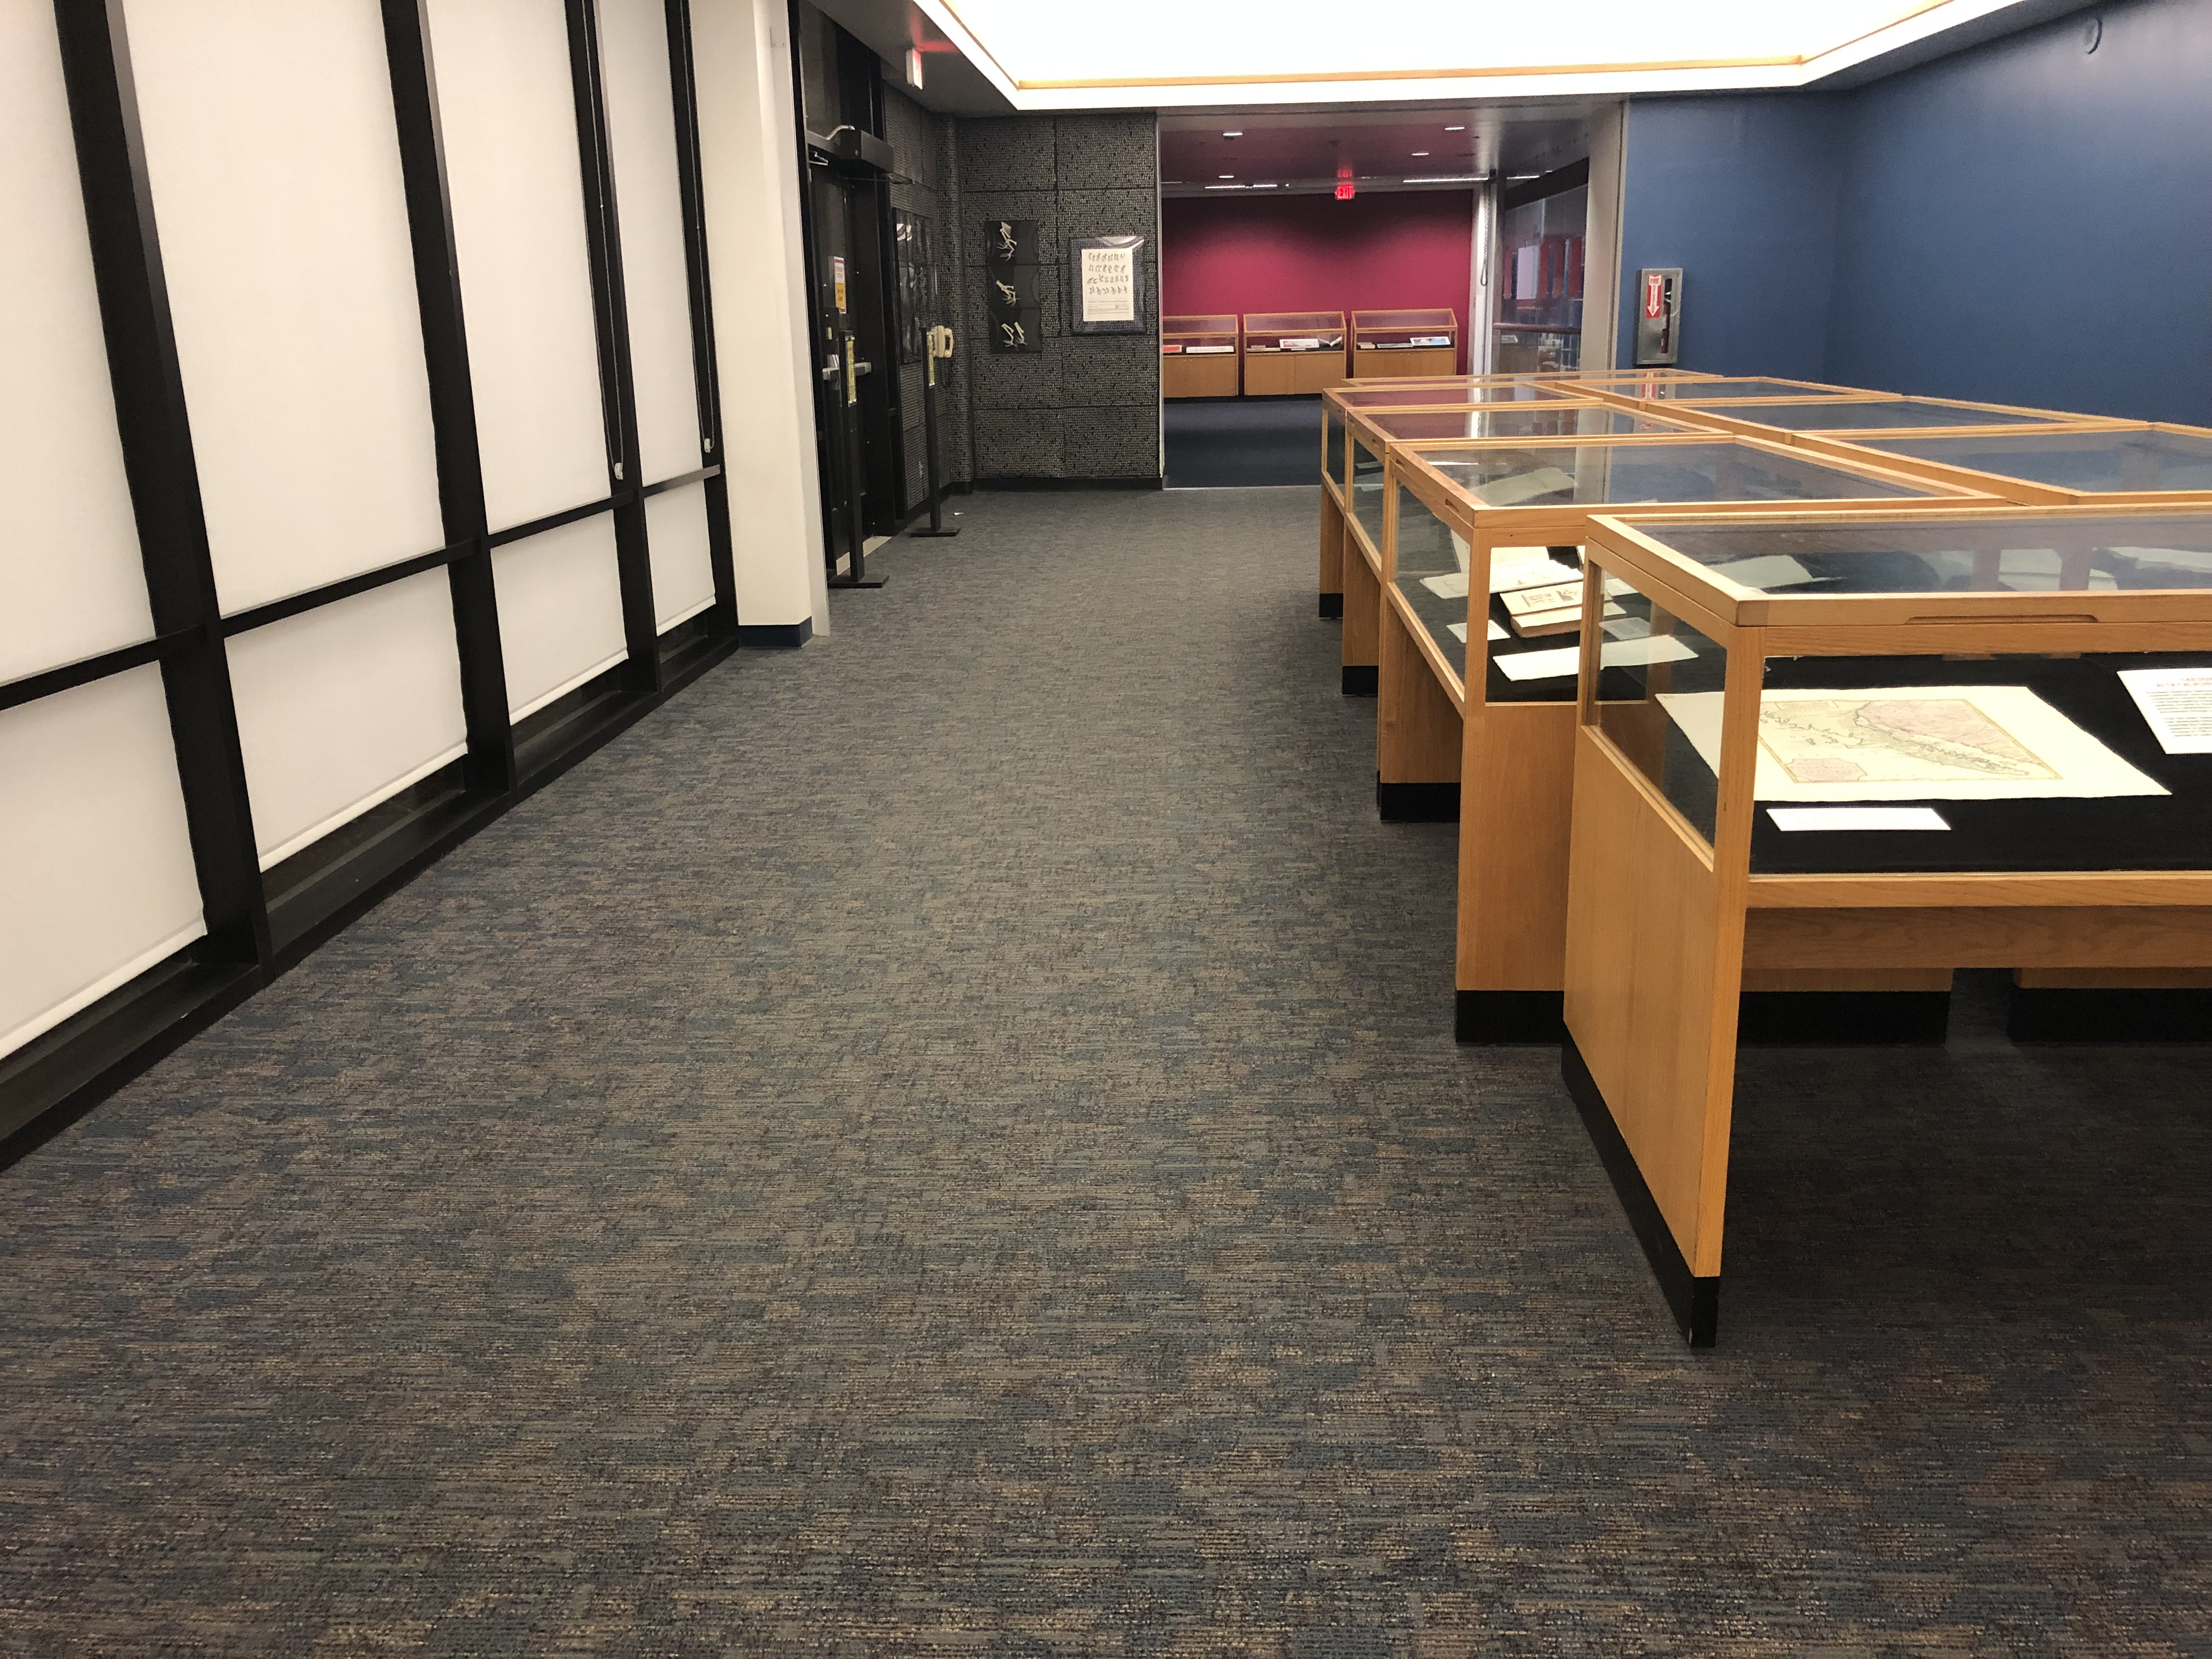Obstacle: (5, 7, 817, 1175), (1312, 397, 2203, 1298)
